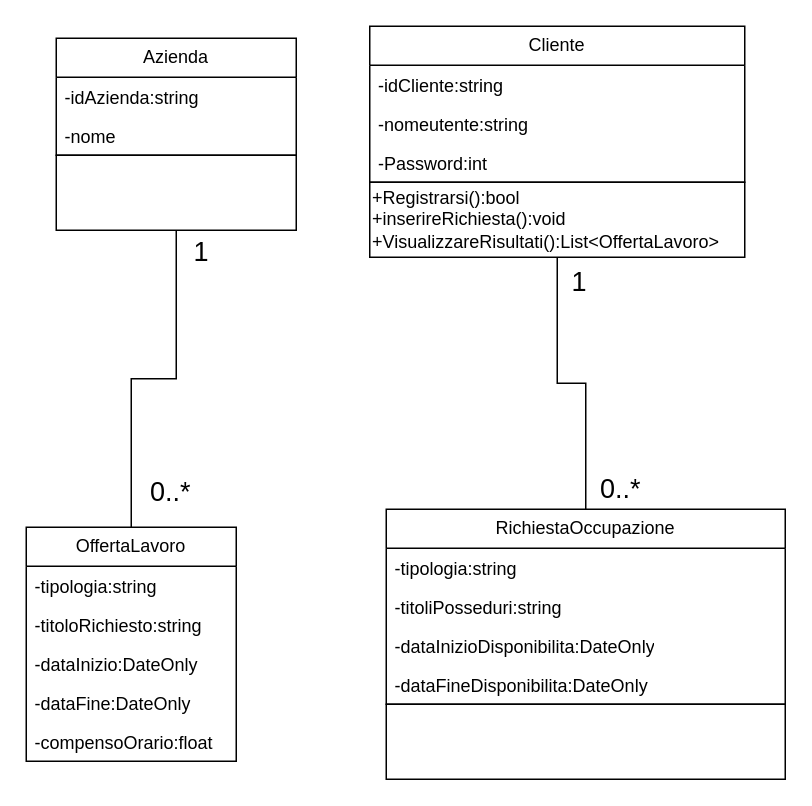
The diagram is 812 pixels wide and 806 high, and some of its shapes have lost their labels. The centre of each missing label's shape, as x and y in pixels:
"+CercaOfferteCompatibili():List<OffertaLavoro>" belongs at pixel 585 741.
"+Registrarsi():bool +inserireOffera():void" belongs at pixel 175 192.
